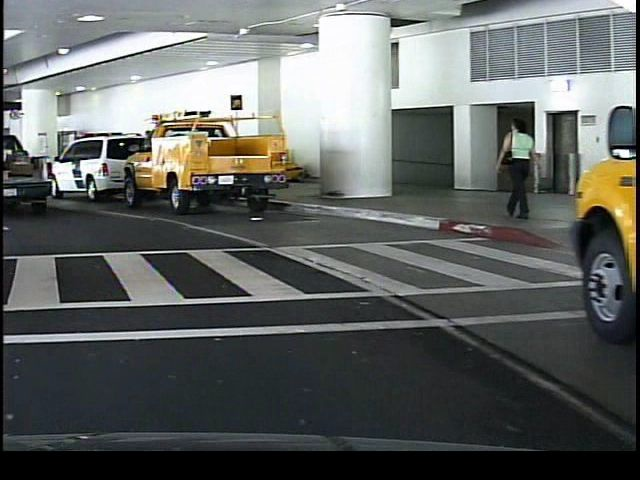person: (491, 112, 537, 224)
